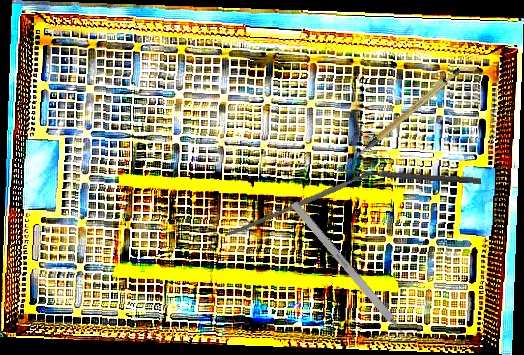Hook Surgical: (290, 200, 418, 351)
Scalpel Handle: (342, 66, 471, 159), (223, 170, 375, 239)
Surgical Spoon: (336, 166, 482, 185)
